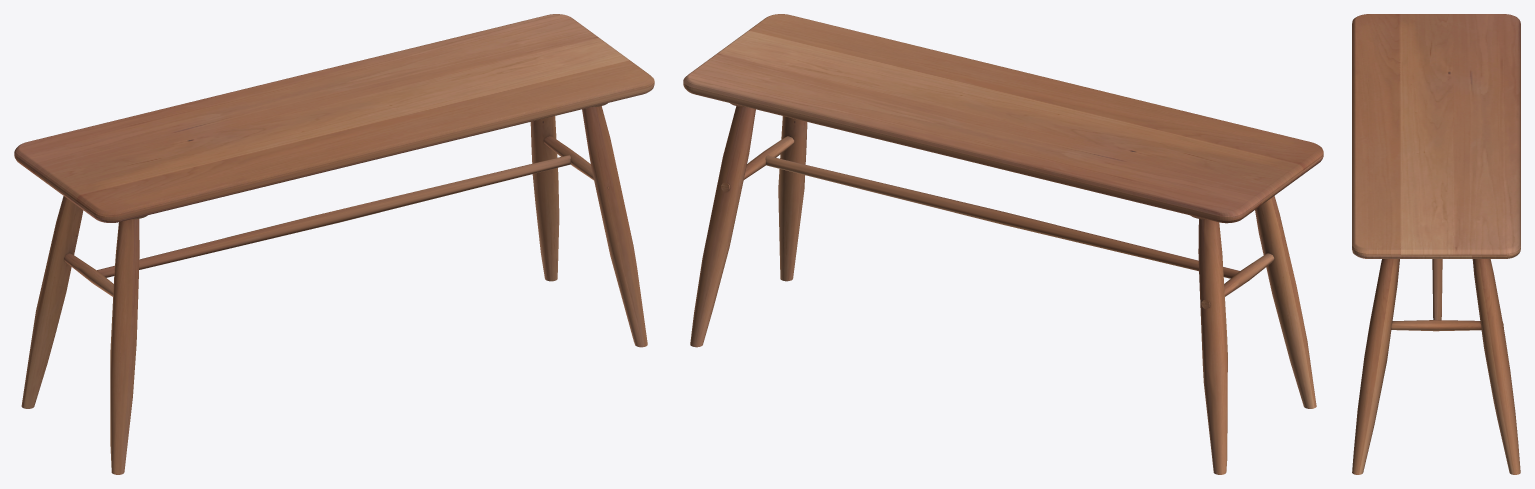
The model's file is raw_model.obj.
3 views of the same model, side by side, from view 1: azimuth 30°, elevation 25°; view 2: azimuth 150°, elevation 25°; view 3: azimuth 270°, elevation 25° (orthographic). The views are drawn at different scales.
Visible parts, largest first — view 1: solid_001; view 2: solid_001; view 3: solid_001.
Boxes of the visible parts, box(x1,y1,x2,y2) form: solid_001: box(14, 14, 654, 474); solid_001: box(683, 14, 1323, 474); solid_001: box(1352, 14, 1520, 474).
Bounding box in the file's own units: 1 × 0.4503 × 0.3.
1 material, 1 textured.
